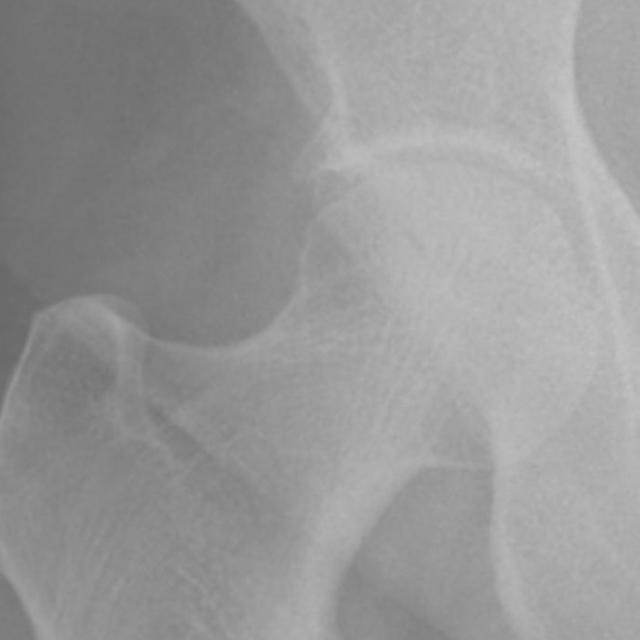Fitted_femural_head: (323, 169, 432, 323)
